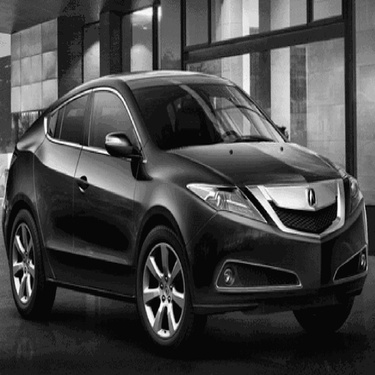car: (3, 62, 368, 350)
